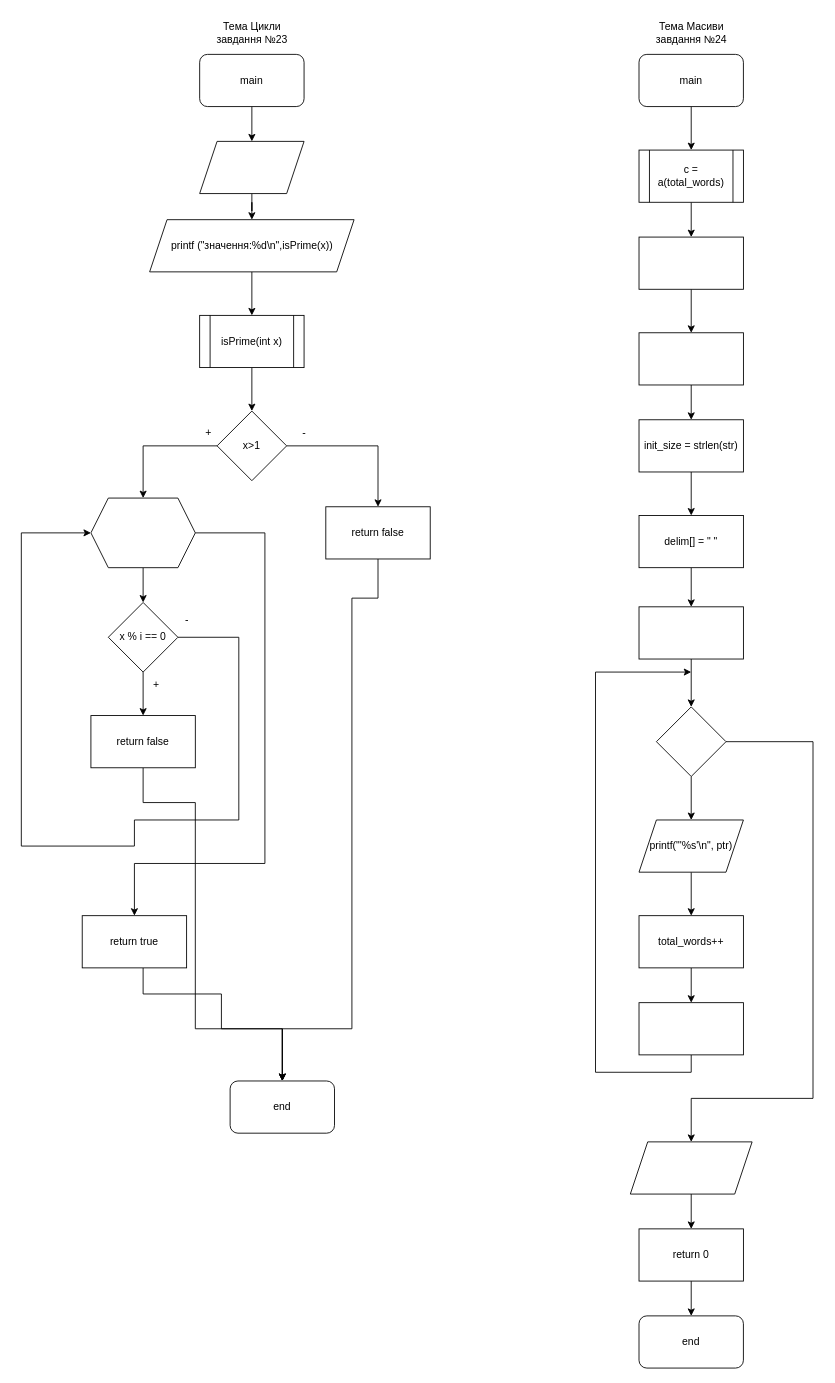
Some shapes in this 835 by 1383 pixel diagram are drawn without their labels. Each missing label, with the box of its shape:
i = 2; i < x; i++: (90, 497, 195, 568)
printf ("введіть число"): (199, 141, 304, 194)
printf("\n%d words.", total_words): (629, 1141, 752, 1194)
ptr != NULL: (656, 706, 726, 776)
ptr = strtok(NULL, delim): (638, 1002, 743, 1055)
ptr = strtok(str, delim): (638, 606, 743, 659)
str[] = "The quick brown fox jumps over the lazy dog": (638, 332, 743, 385)
total_words = 0: (638, 236, 743, 289)
